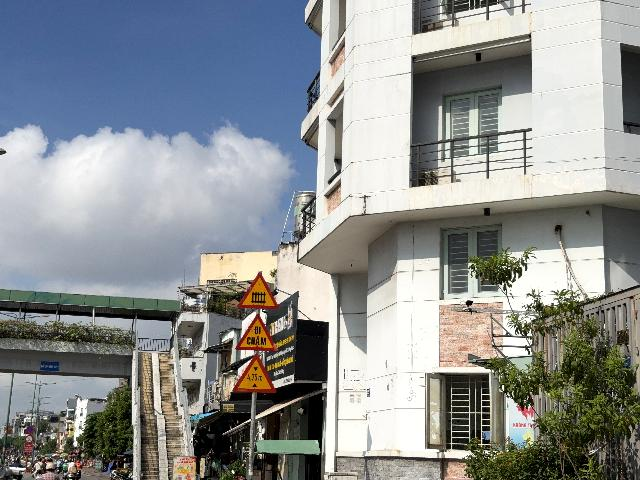chieu-cao-tinh-khong-thuc-te: (233, 353, 277, 393)
di-cham: (235, 313, 278, 351)
noi-giao-nhau-voi-duong-sat-co-rao-chan: (237, 272, 280, 310)
